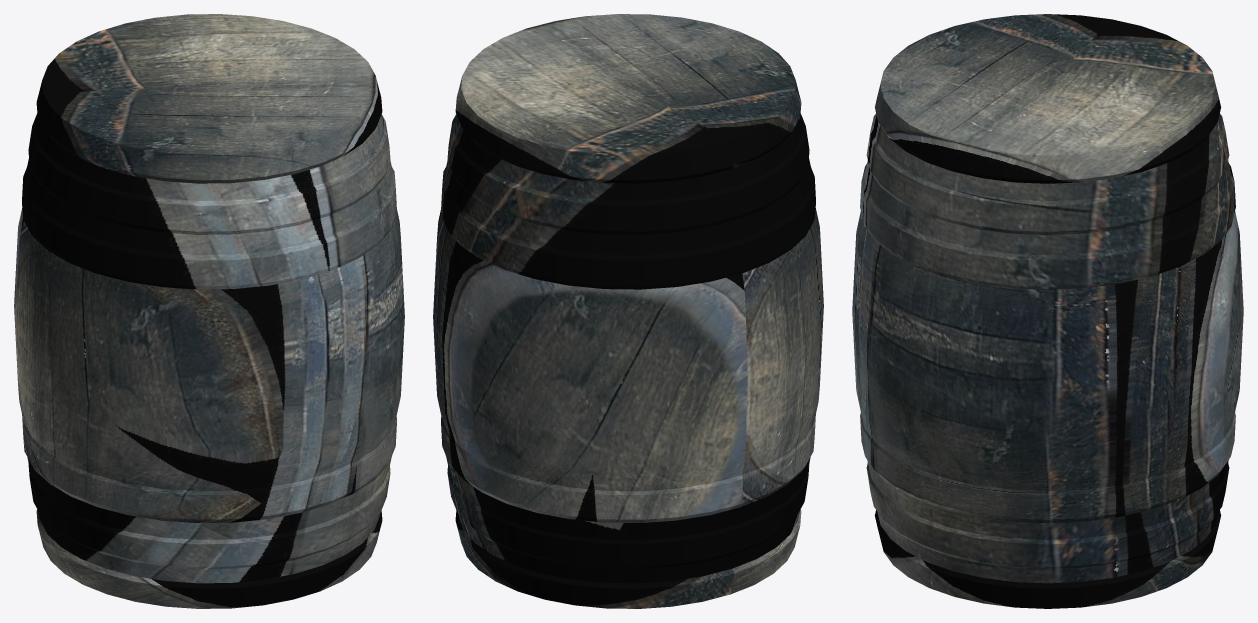
The model's file is barrel.obj.
3 renders of one model, left to right at view 1: azimuth 30°, elevation 25°; view 2: azimuth 150°, elevation 25°; view 3: azimuth 270°, elevation 25°, orthographic.
Parts seen in each view (by area): view 1: Mesh_Mesh_Cylinder.001; view 2: Mesh_Mesh_Cylinder.001; view 3: Mesh_Mesh_Cylinder.001.
Part boxes in pixels (<box>): Mesh_Mesh_Cylinder.001: <box>14,14,404,608</box>; Mesh_Mesh_Cylinder.001: <box>433,14,823,608</box>; Mesh_Mesh_Cylinder.001: <box>852,14,1243,608</box>.
Bounding box in the file's own units: 9.44 × 12.06 × 9.44.
